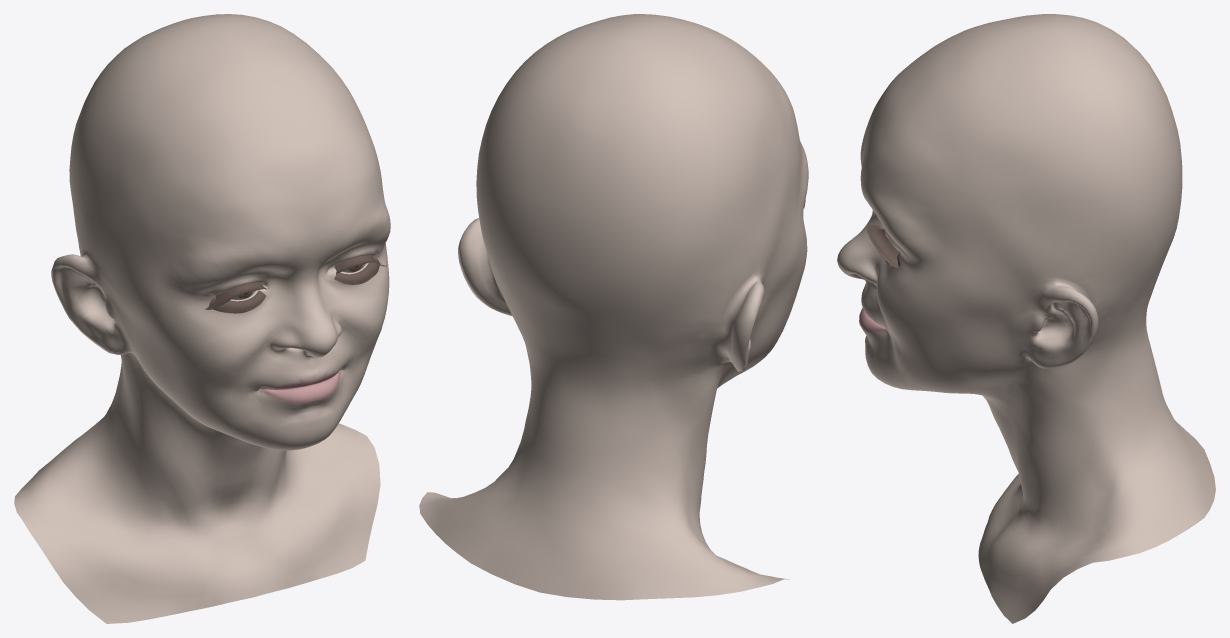
File: karma_face_stage1_U_neutral_EXPERIMENT.glb
The picture shows the model from 3 angles, left to right: view 1: azimuth 30°, elevation 25°; view 2: azimuth 150°, elevation 25°; view 3: azimuth 270°, elevation 25°; orthographic projection. The views are drawn at different scales.
Parts seen in each view (by area): view 1: p0, p4; view 2: p0; view 3: p0, p4.
Part boxes in pixels (bbox=[...]): p0: bbox=[14, 14, 390, 623]; p4: bbox=[205, 255, 386, 313]; p0: bbox=[419, 14, 808, 600]; p0: bbox=[837, 14, 1215, 623]; p4: bbox=[867, 224, 900, 267].
Size of the model in its own units: 3.14 by 4.8 by 3.08.
